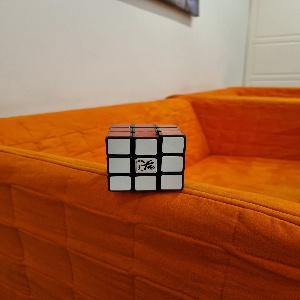cube: (107, 123, 186, 192)
